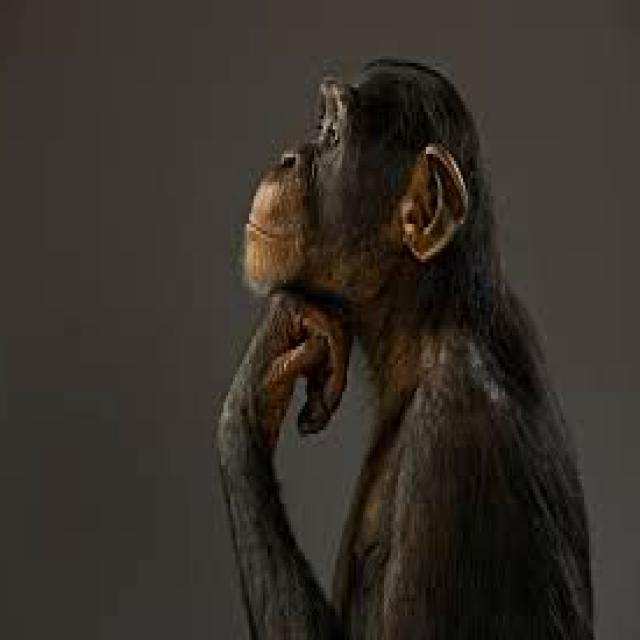chimpanzee: (219, 59, 593, 637)
